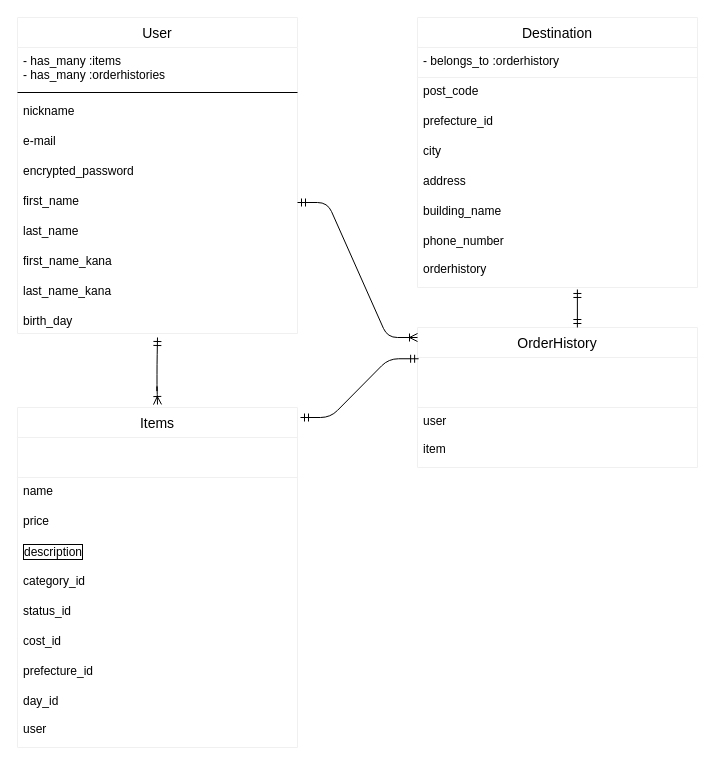
The diagram is 715 pixels wide and 768 high, and some of its shapes have lost their labels. Here are the shapes that lost their labels. From the top down, the centre of each, then its label:
(x=557, y=382): - belongs_to: user - belongs_to: item - has_one :destination
(x=157, y=457): - belongs_to: user - has_one :orderhistory
